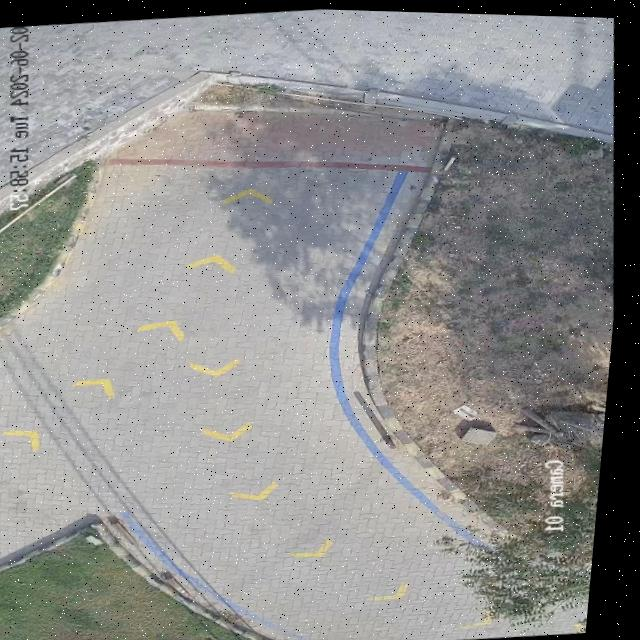No Car: (0, 7, 619, 640)
